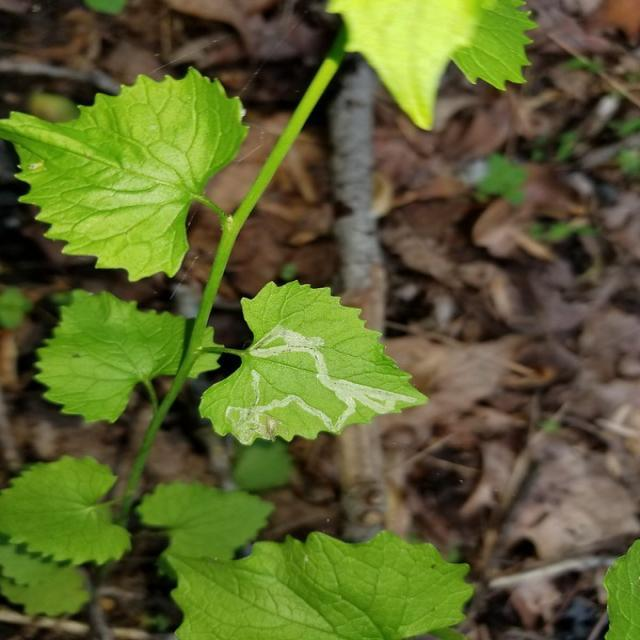Serpentine leafminer: (221, 322, 424, 442)
